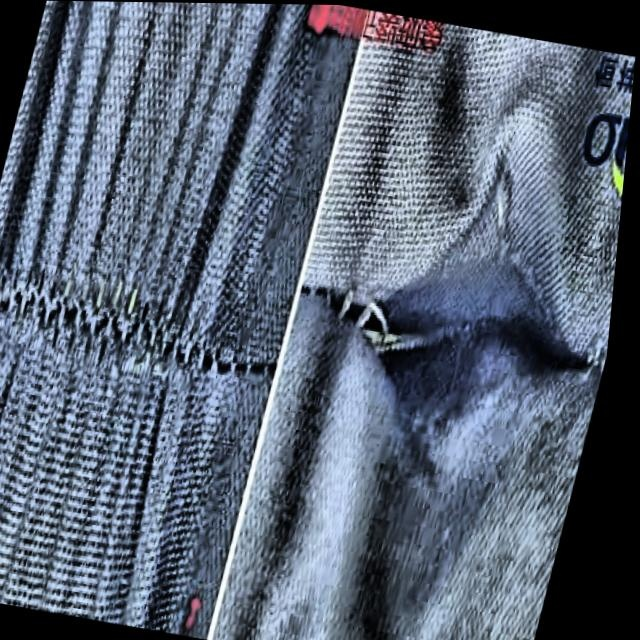seam: (289, 153, 633, 524), (0, 241, 257, 398)
